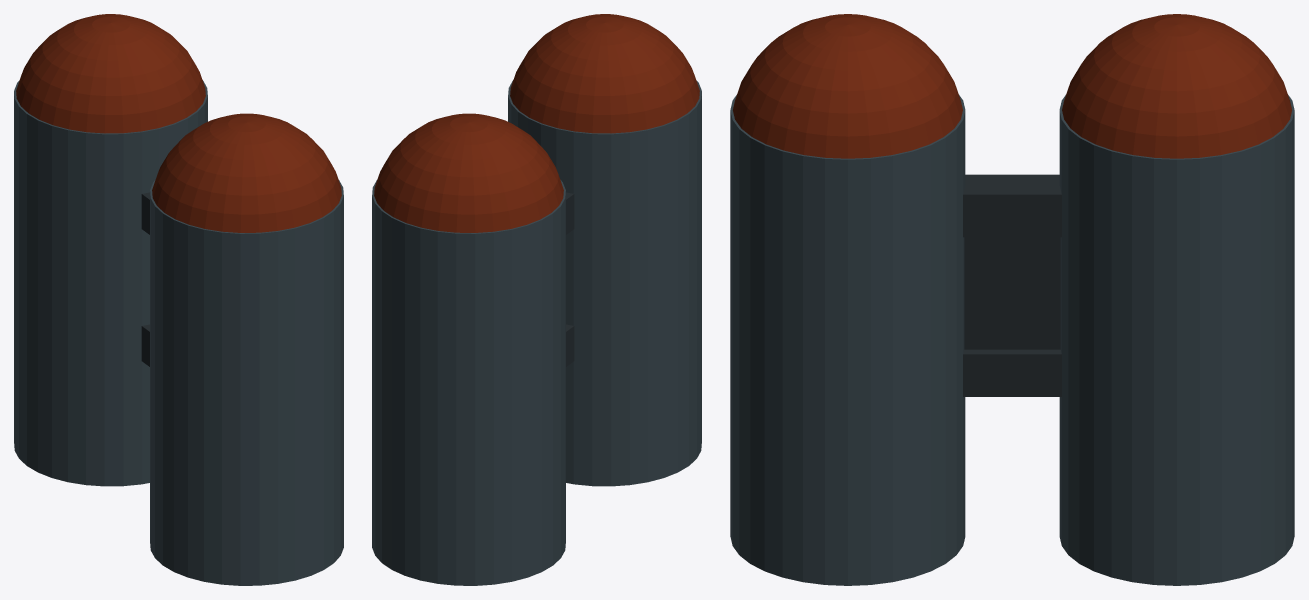
File: Jetpack.fbx
3 renders of one model, left to right at view 1: azimuth 30°, elevation 25°; view 2: azimuth 150°, elevation 25°; view 3: azimuth 270°, elevation 25°, orthographic. The views are drawn at different scales.
Parts seen in each view (by area): view 1: Cylinder, Sphere, Cube.002; view 2: Cylinder, Sphere, Cube.002; view 3: Cylinder, Sphere, Cube.002.
Part boxes in pixels (bbox=[...]): Cylinder: bbox=[14, 80, 343, 585]; Sphere: bbox=[16, 14, 341, 232]; Cube.002: bbox=[141, 192, 149, 366]; Cylinder: bbox=[372, 80, 701, 585]; Sphere: bbox=[374, 14, 699, 232]; Cube.002: bbox=[566, 192, 574, 366]; Cylinder: bbox=[730, 95, 1294, 585]; Sphere: bbox=[733, 14, 1291, 158]; Cube.002: bbox=[963, 174, 1061, 396].
Size of the model in its own units: 200 by 480 by 480.
Materials: 3 (3 with a texture image).
